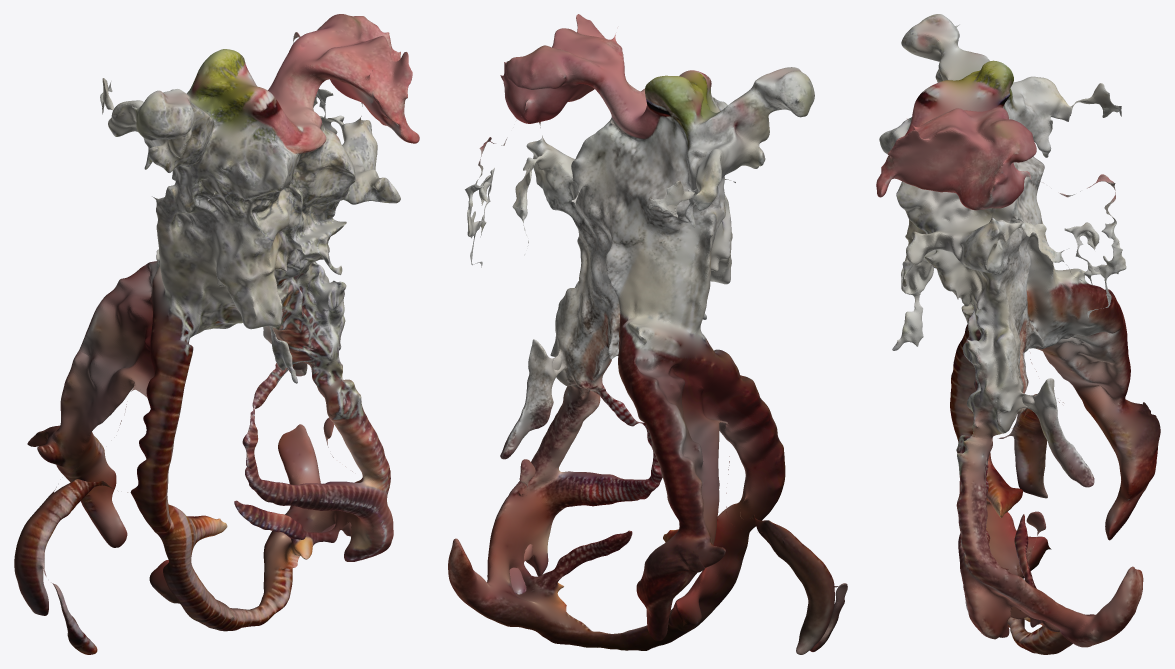
File: try2-v1.glb
3 views of the same model, side by side, from view 1: azimuth 30°, elevation 25°; view 2: azimuth 150°, elevation 25°; view 3: azimuth 270°, elevation 25° (orthographic). The views are drawn at different scales.
Parts seen in each view (by area): view 1: world; view 2: world; view 3: world.
Boxes of the visible parts, box(x1,y1,x2,y2) form: world: box(14, 14, 419, 654); world: box(448, 14, 847, 654); world: box(876, 14, 1160, 654).
Size of the model in its own units: 0.7977 by 1.26 by 0.5734.
